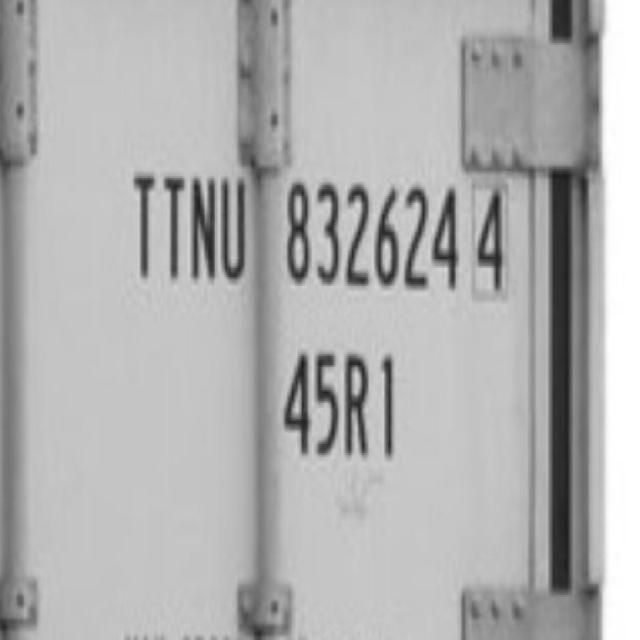dv: (470, 178, 507, 304)
owner: (127, 156, 247, 292)
serial: (280, 174, 462, 306)
size: (280, 338, 408, 466)
